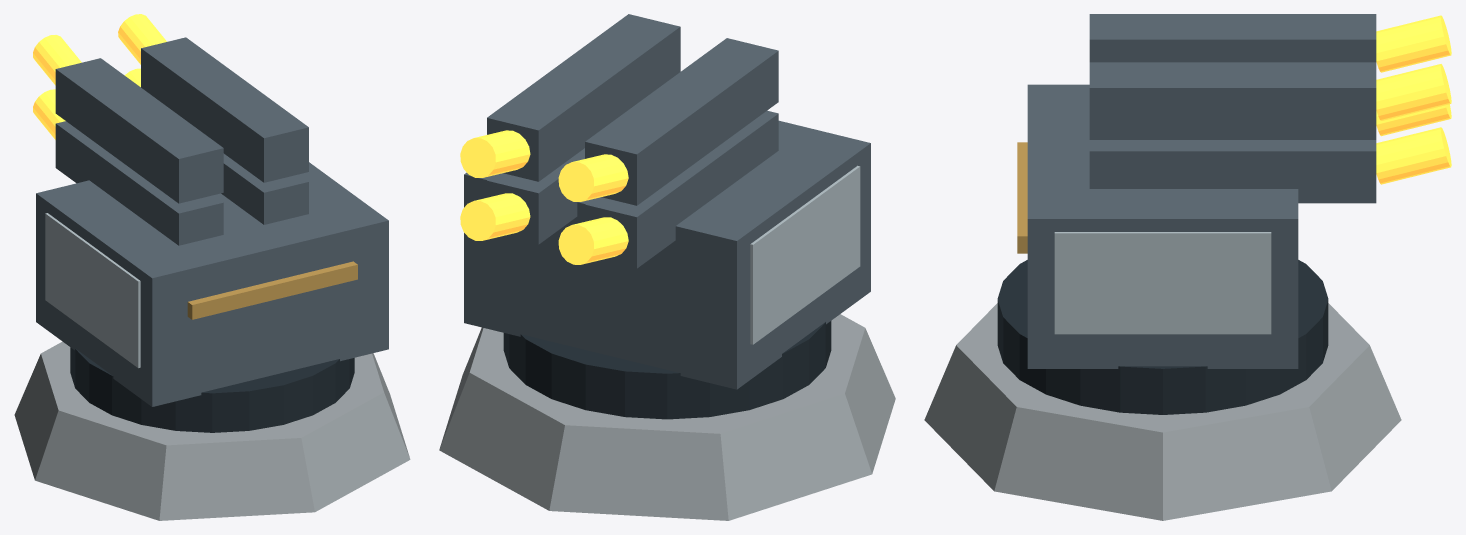
The model's file is anti-air.glb.
The picture shows the model from 3 angles, left to right: view 1: azimuth 30°, elevation 25°; view 2: azimuth 150°, elevation 25°; view 3: azimuth 270°, elevation 25°; orthographic projection. The views are drawn at different scales.
Visible parts, largest first — view 1: armored turret, octagonal emplacement, missile cassette.001, missile cassette.003, azimuth bearing, side armor module, missile cassette, missile cassette.002, gold identification bar, missile nose.001, missile nose.003, missile nose; view 2: octagonal emplacement, armored turret, missile cassette.001, azimuth bearing, missile cassette.003, side armor module, missile cassette, missile cassette.002, missile nose.003, missile nose.002, missile nose.001, missile nose; view 3: octagonal emplacement, armored turret, missile cassette.003, side armor module.001, azimuth bearing, missile cassette.002, missile cassette.001, missile nose.002, missile nose.003, missile nose.001, gold identification bar, missile nose.
Boxes of the visible parts, left/top/right/bottom form: armored turret: left=36, top=162, right=388, bottom=406; octagonal emplacement: left=14, top=341, right=410, bottom=520; missile cassette.001: left=55, top=58, right=223, bottom=203; missile cassette.003: left=141, top=37, right=308, bottom=182; azimuth bearing: left=70, top=347, right=354, bottom=432; side armor module: left=45, top=213, right=140, bottom=368; missile cassette: left=55, top=121, right=223, bottom=245; missile cassette.002: left=221, top=153, right=308, bottom=224; gold identification bar: left=187, top=261, right=357, bottom=319; missile nose.001: left=33, top=35, right=81, bottom=85; missile nose.003: left=118, top=14, right=166, bottom=64; missile nose: left=33, top=89, right=65, bottom=139; octagonal emplacement: left=439, top=314, right=895, bottom=520; armored turret: left=464, top=120, right=870, bottom=389; missile cassette.001: left=585, top=38, right=778, bottom=205; azimuth bearing: left=503, top=321, right=831, bottom=419; missile cassette.003: left=487, top=14, right=680, bottom=181; side armor module: left=750, top=165, right=860, bottom=344; missile cassette: left=585, top=110, right=778, bottom=268; missile cassette.002: left=487, top=148, right=584, bottom=244; missile nose.003: left=460, top=130, right=530, bottom=177; missile nose.002: left=460, top=193, right=530, bottom=240; missile nose.001: left=558, top=154, right=628, bottom=201; missile nose: left=558, top=217, right=628, bottom=264; octagonal emplacement: left=924, top=303, right=1401, bottom=520; armored turret: left=1027, top=84, right=1298, bottom=368; missile cassette.003: left=1089, top=62, right=1376, bottom=139; side armor module.001: left=1054, top=232, right=1271, bottom=334; azimuth bearing: left=997, top=260, right=1328, bottom=414; missile cassette.002: left=1089, top=140, right=1376, bottom=203; missile cassette.001: left=1089, top=14, right=1376, bottom=62; missile nose.002: left=1376, top=127, right=1451, bottom=184; missile nose.003: left=1376, top=64, right=1451, bottom=120; missile nose.001: left=1376, top=15, right=1451, bottom=72; gold identification bar: left=1017, top=142, right=1027, bottom=253; missile nose: left=1376, top=104, right=1451, bottom=136.
Bounding box in the file's own units: 1.5 × 1.31 × 1.66.
